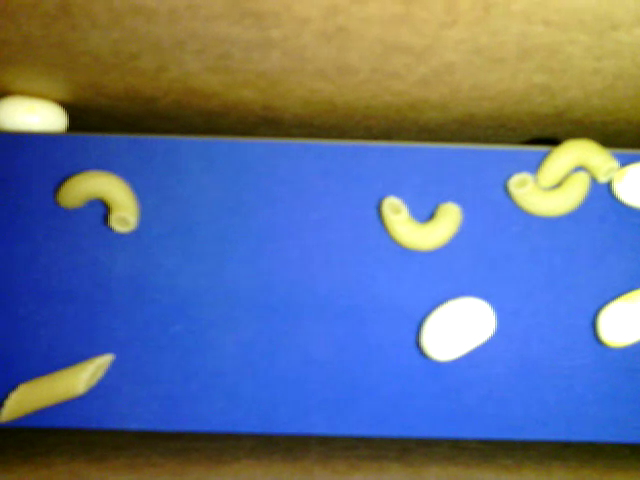elbow: (57, 170, 140, 231), (380, 195, 463, 252), (506, 168, 591, 217), (536, 138, 619, 187)
penne: (1, 353, 115, 421)
